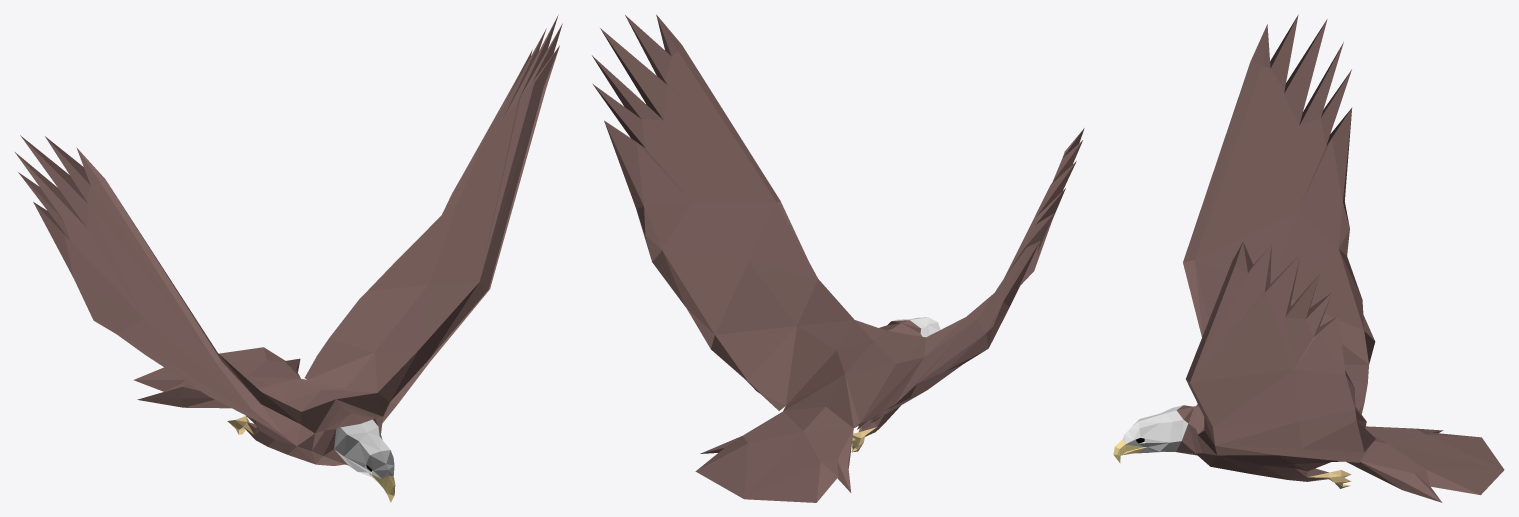
File: eagle.glb
3 views of the same model, side by side, from view 1: azimuth 30°, elevation 25°; view 2: azimuth 150°, elevation 25°; view 3: azimuth 270°, elevation 25° (orthographic). The views are drawn at different scales.
Visible parts, largest first — view 1: eagle_colorMap; view 2: eagle_colorMap; view 3: eagle_colorMap.
Boxes of the visible parts, x1=… form: eagle_colorMap: x1=15, y1=15, x2=562, y2=502; eagle_colorMap: x1=592, y1=14, x2=1084, y2=502; eagle_colorMap: x1=1113, y1=14, x2=1504, y2=502.
Bounding box in the file's own units: 139 × 94.17 × 96.25.
